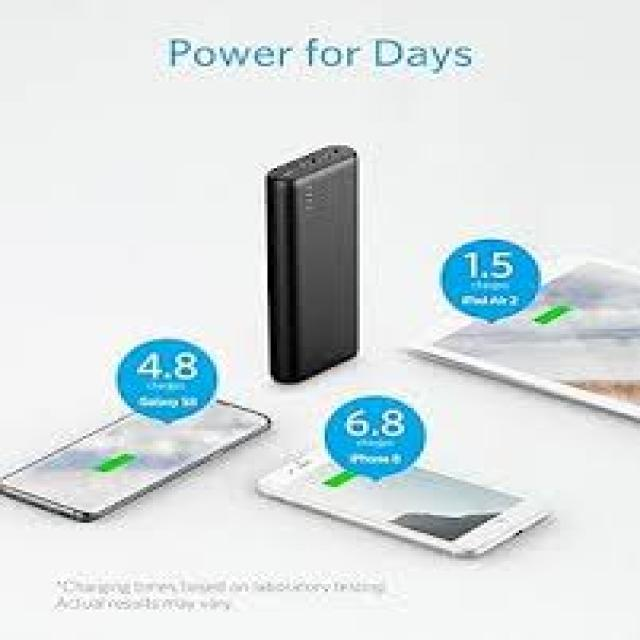portable-charger: (263, 143, 365, 385)
